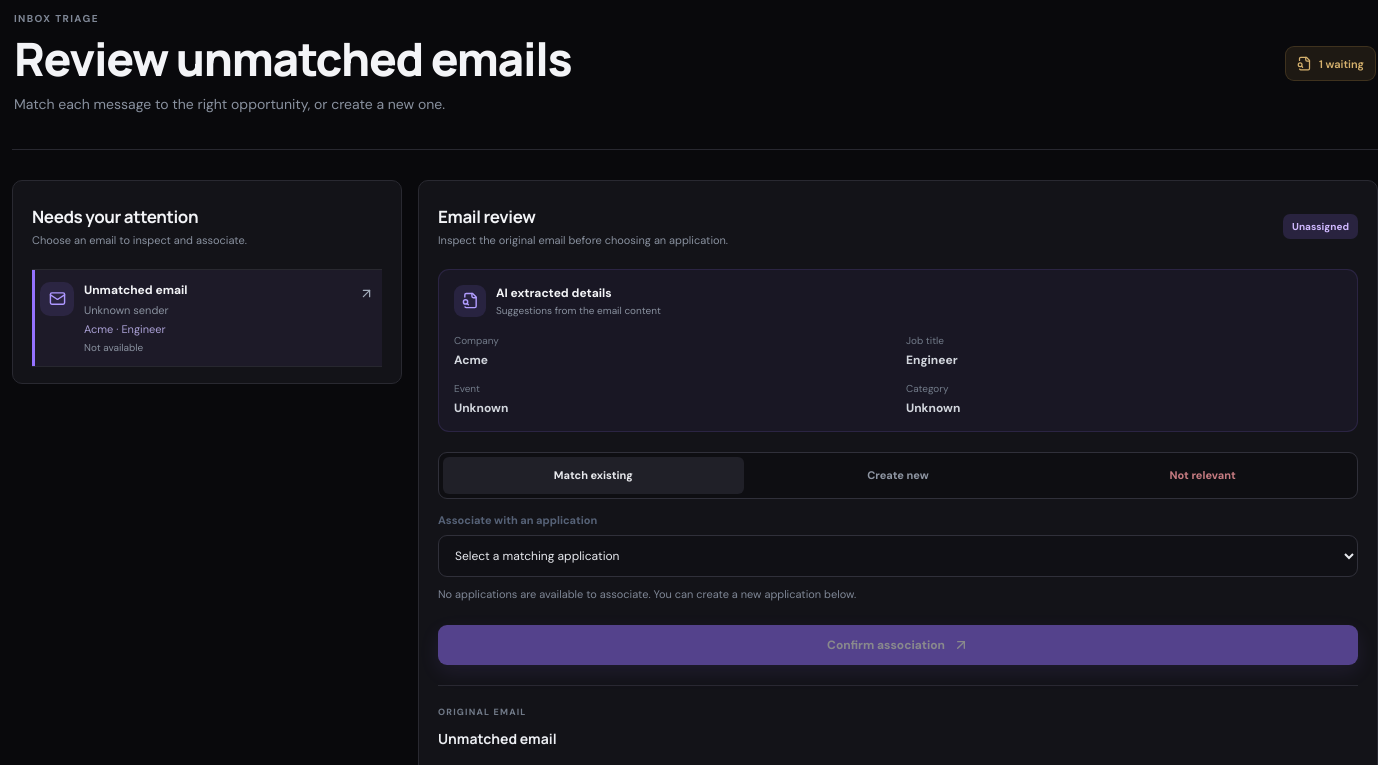
Scenario: review actions and data refresh › reloads the queue after dismissing an email
This screenshot has width=1378, height=765.
Expected: the button "Unmatched email Unknown sender Acme · Engineer Not available" is shown, [32, 270, 382, 367]
Click the tab "Not relevant": (1203, 475) [1052, 457, 1353, 494]
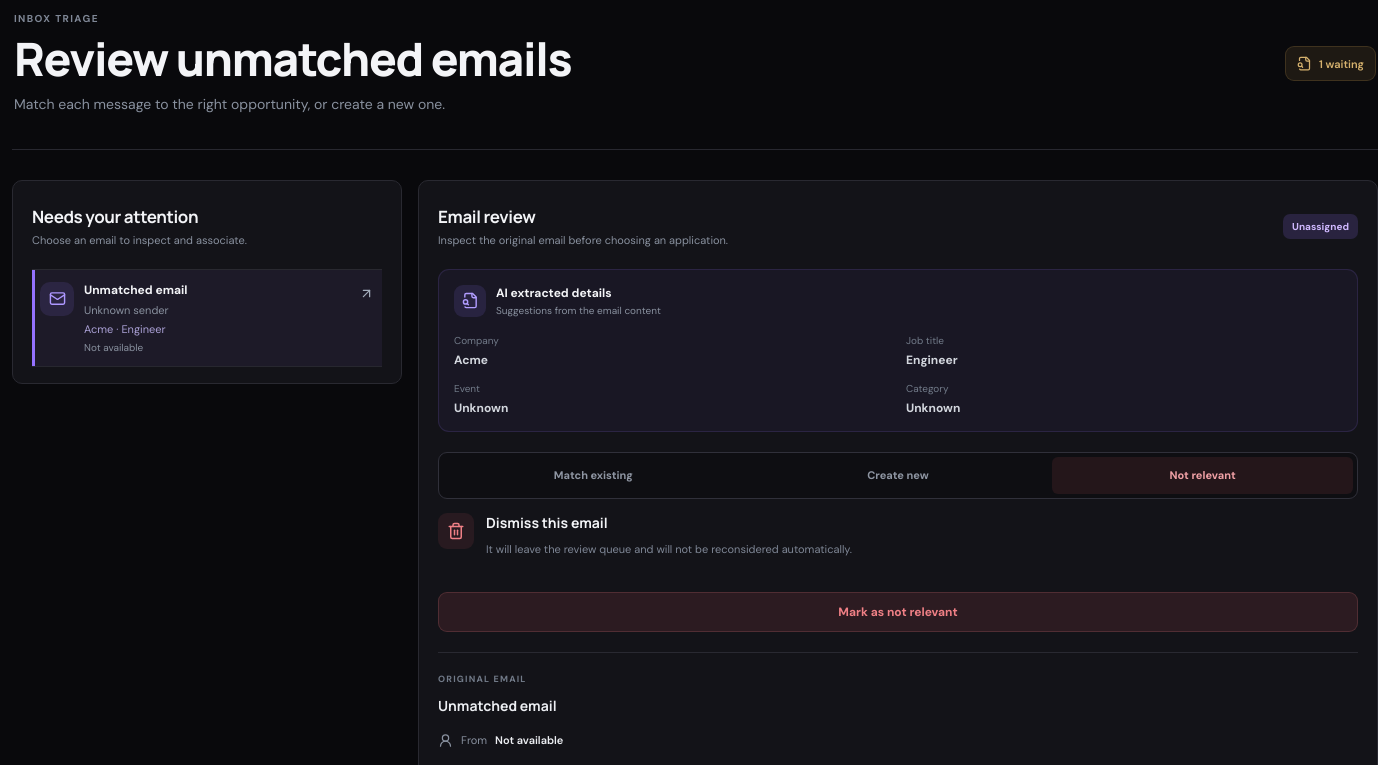
Click the button "Mark as not relevant": (898, 612) [438, 592, 1358, 632]
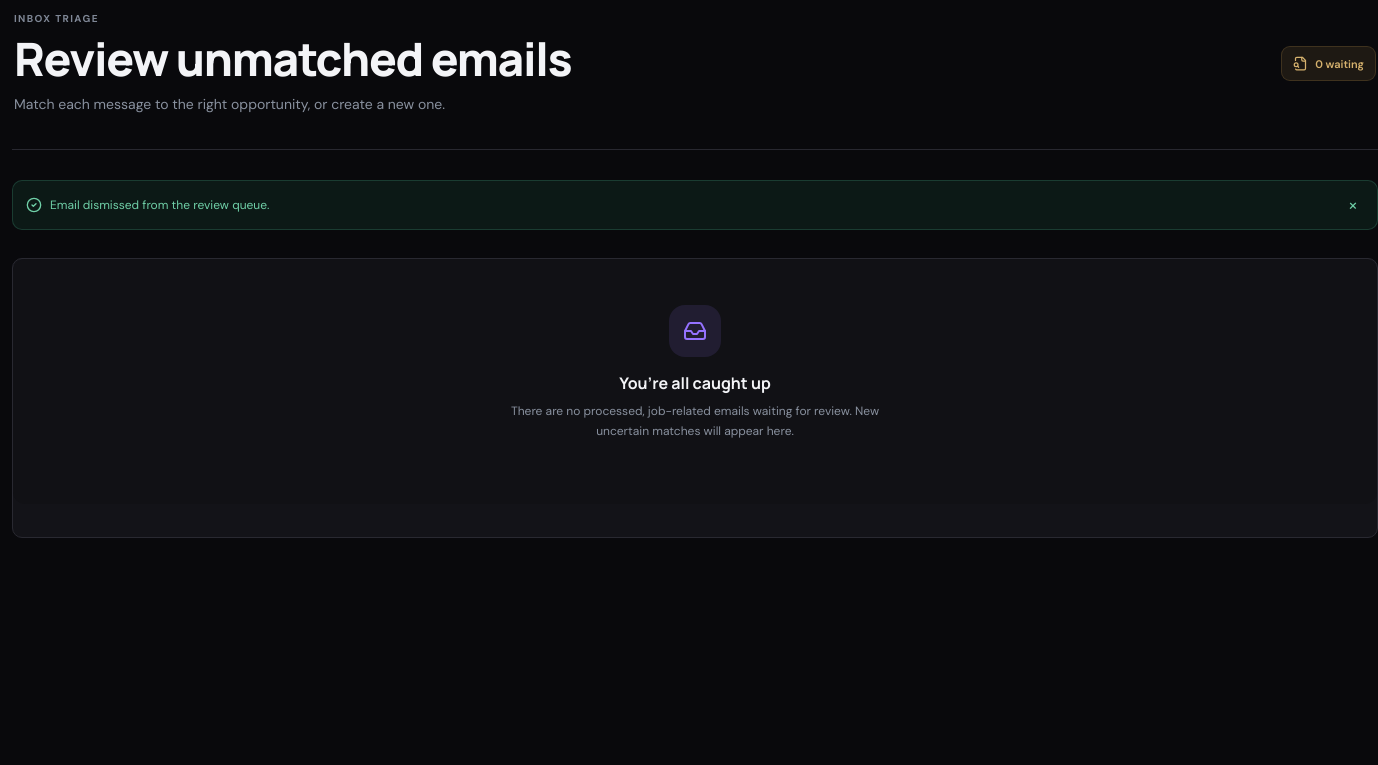
Expected: the heading "You’re all caught up" is shown, [619, 372, 771, 394]
Expected: the text "Email dismissed from the review queue." is shown, [50, 197, 269, 213]
